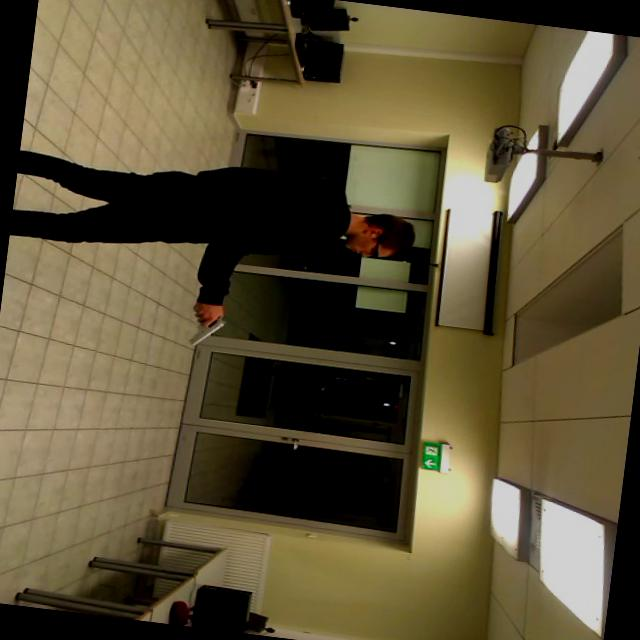handgun: (180, 308, 247, 359)
